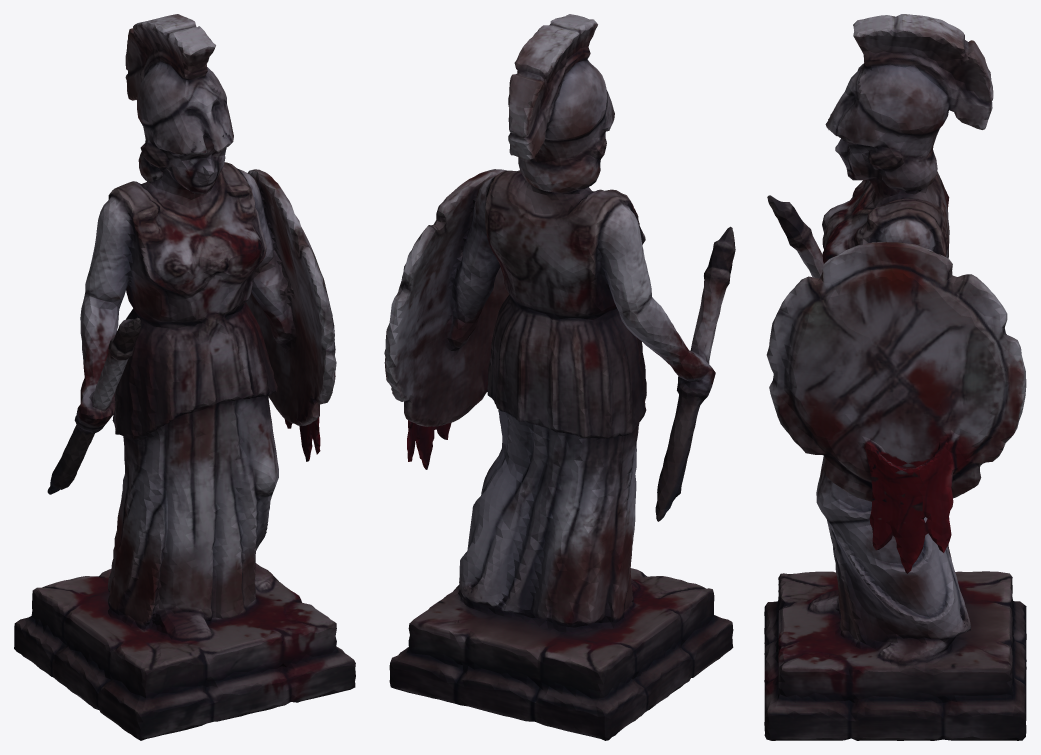
The model's file is status_athena.glb.
3 views of the same model, side by side, from view 1: azimuth 30°, elevation 25°; view 2: azimuth 150°, elevation 25°; view 3: azimuth 270°, elevation 25° (orthographic). The views are drawn at different scales.
Parts seen in each view (by area): view 1: world; view 2: world; view 3: world.
Part boxes in pixels (x1,y1,x2,y2): world: [14, 14, 355, 740]; world: [384, 14, 735, 740]; world: [764, 14, 1026, 740].
Bounding box in the file's own units: 0.427 × 1 × 0.3576.
Materials: 1 (1 with a texture image).
